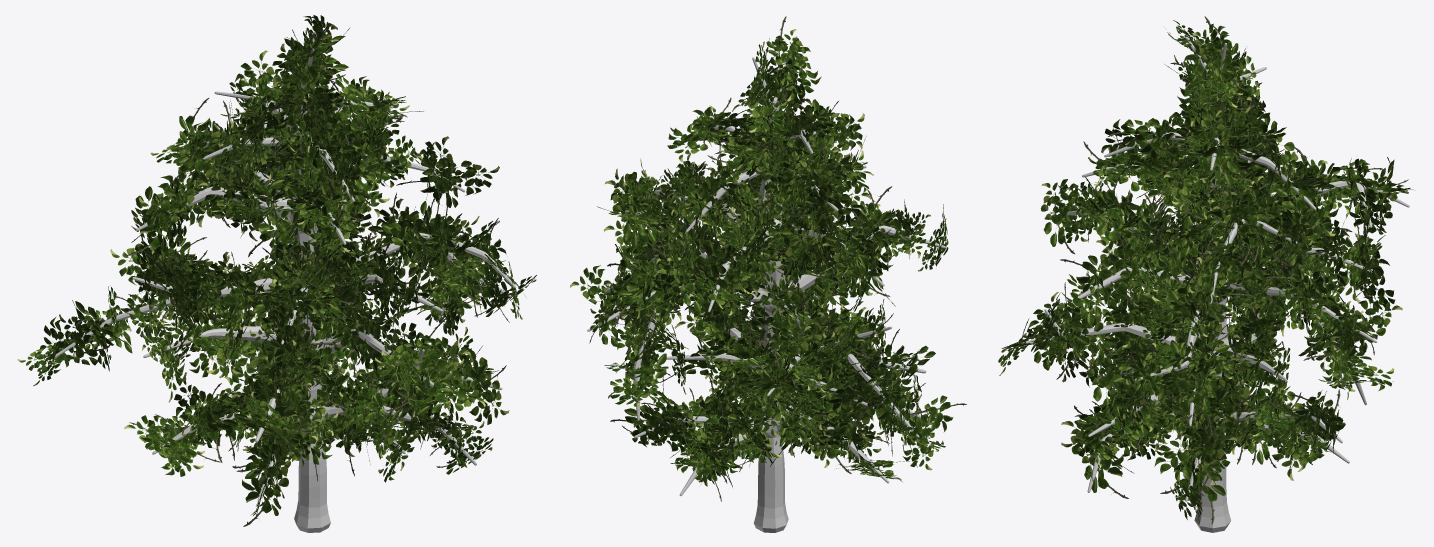
File: arbolGrande.fbx
The picture shows the model from 3 angles, left to right: view 1: azimuth 30°, elevation 25°; view 2: azimuth 150°, elevation 25°; view 3: azimuth 270°, elevation 25°; orthographic projection. The views are drawn at different scales.
Parts seen in each view (by area): view 1: rama.583, Plane; view 2: rama.583, Plane; view 3: rama.583, Plane.
Part boxes in pixels (bbox=[...]): rama.583: bbox=[17, 15, 536, 526]; Plane: bbox=[54, 31, 516, 532]; rama.583: bbox=[570, 16, 966, 501]; Plane: bbox=[587, 56, 945, 532]; rama.583: bbox=[998, 16, 1415, 524]; Plane: bbox=[1018, 36, 1409, 532].
Size of the model in its own units: 3275 by 3560 by 2658.
